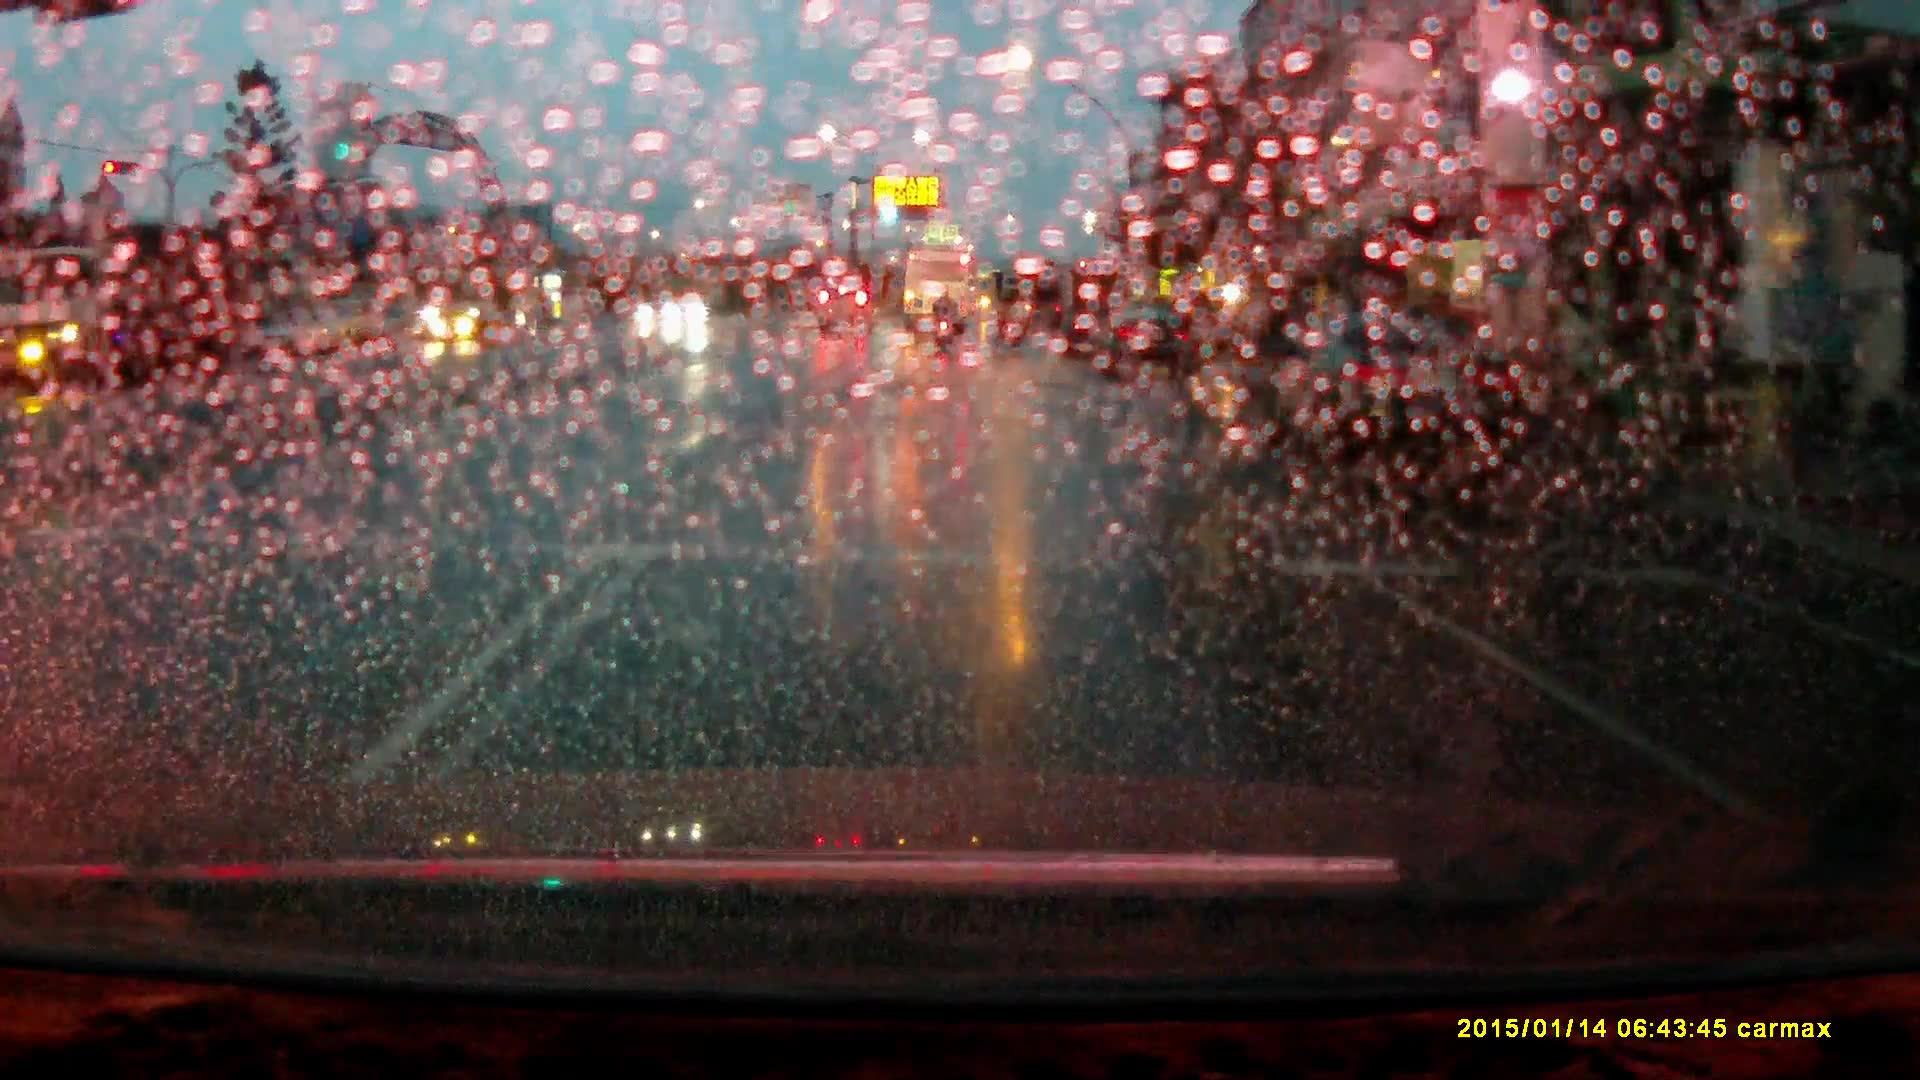rider: (932, 288, 958, 351)
vehicle: (1278, 314, 1513, 473), (1, 242, 238, 396), (421, 265, 546, 342), (1098, 307, 1192, 381), (904, 250, 973, 336), (815, 286, 878, 337), (660, 293, 709, 326)
